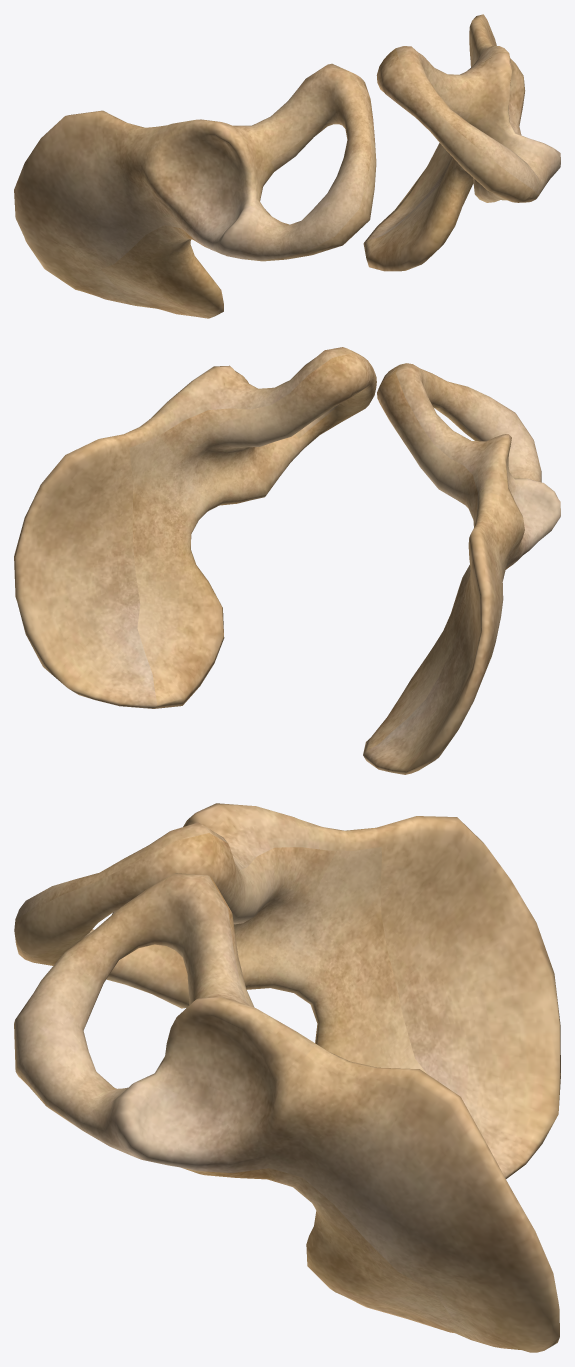
Rendered from hips.glb.
The picture shows the model from 3 angles, top to bottom: view 1: azimuth 30°, elevation 25°; view 2: azimuth 150°, elevation 25°; view 3: azimuth 270°, elevation 25°; orthographic projection. The views are drawn at different scales.
Parts seen in each view (by area): view 1: Caderas; view 2: Caderas; view 3: Caderas.
Boxes of the visible parts, bbox=[...] form: Caderas: bbox=[14, 14, 560, 318]; Caderas: bbox=[14, 347, 560, 774]; Caderas: bbox=[14, 803, 560, 1352].
Size of the model in its own units: 1.02 by 0.6262 by 0.7488.
Materials: 1 (1 with a texture image).
